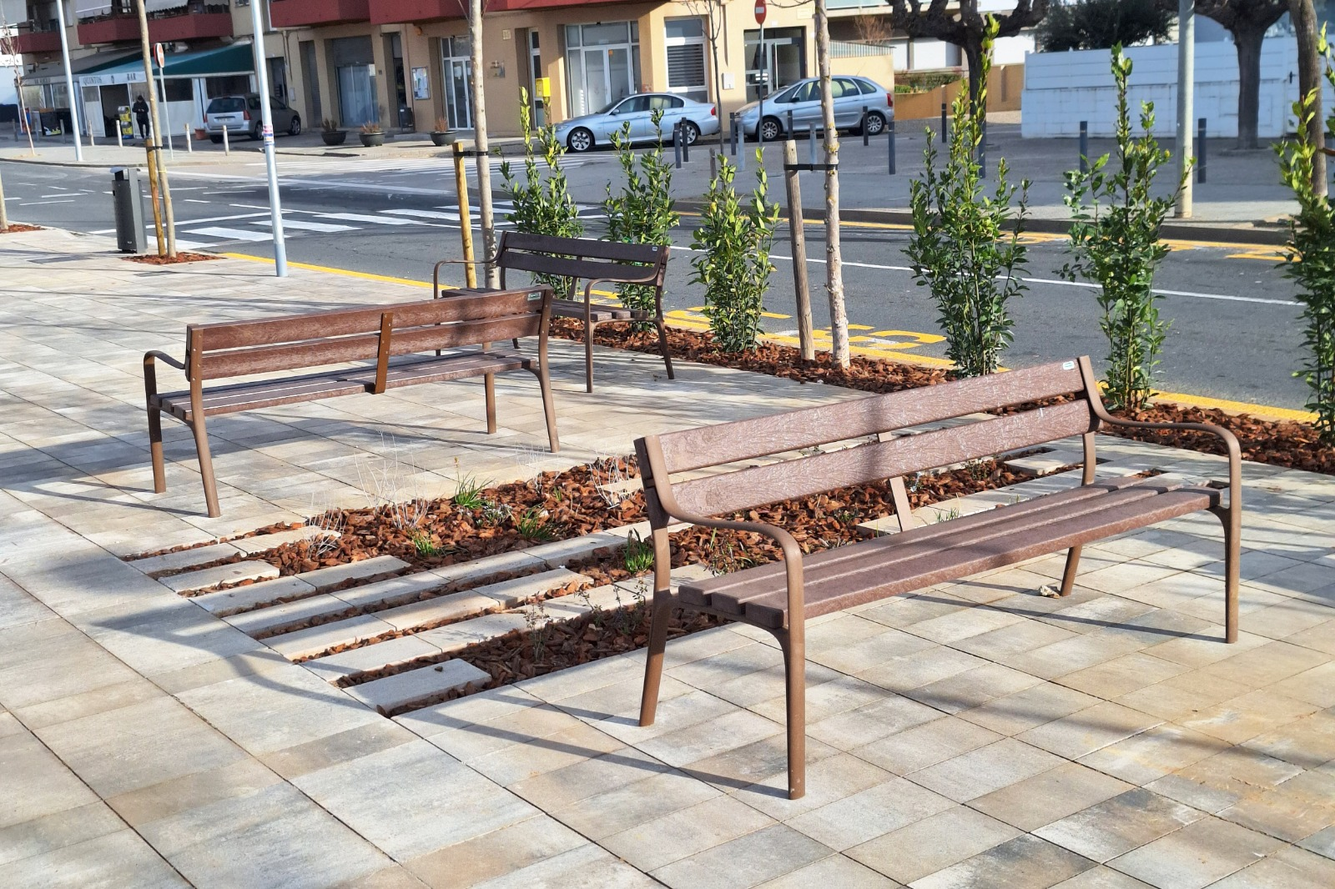Car: (724, 73, 919, 144), (531, 89, 729, 156), (188, 97, 311, 146)
Chair: (634, 342, 1275, 806), (108, 283, 584, 529), (427, 227, 687, 395)
Crosswalk: (148, 208, 496, 250)
Person: (129, 95, 156, 143)
TrashBin: (102, 163, 163, 261)
Tree: (1055, 65, 1212, 465), (897, 98, 1052, 393), (687, 166, 790, 360)
